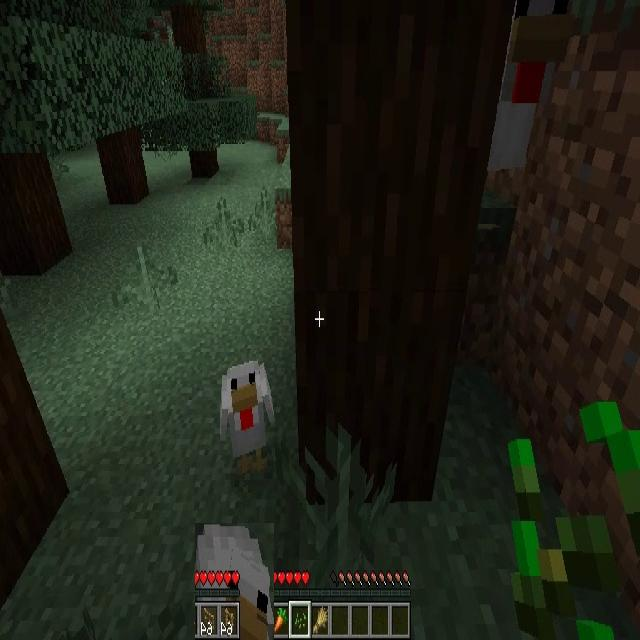duck: (195, 523, 274, 640), (219, 363, 275, 468)
